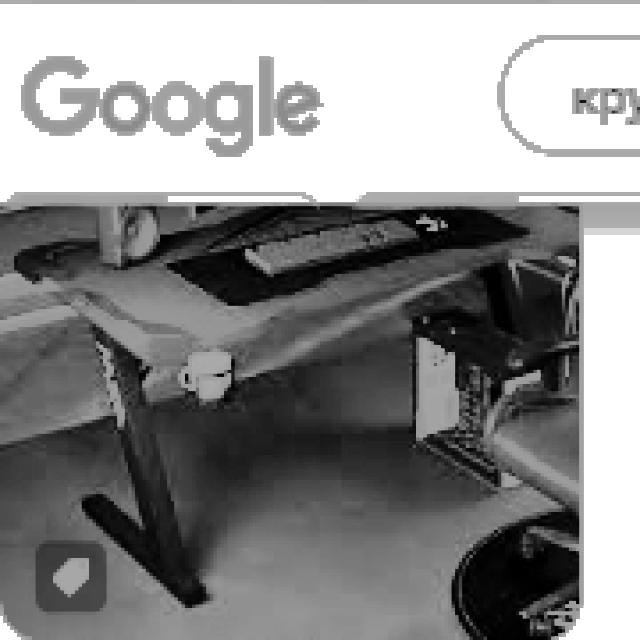table: (11, 199, 558, 605)
